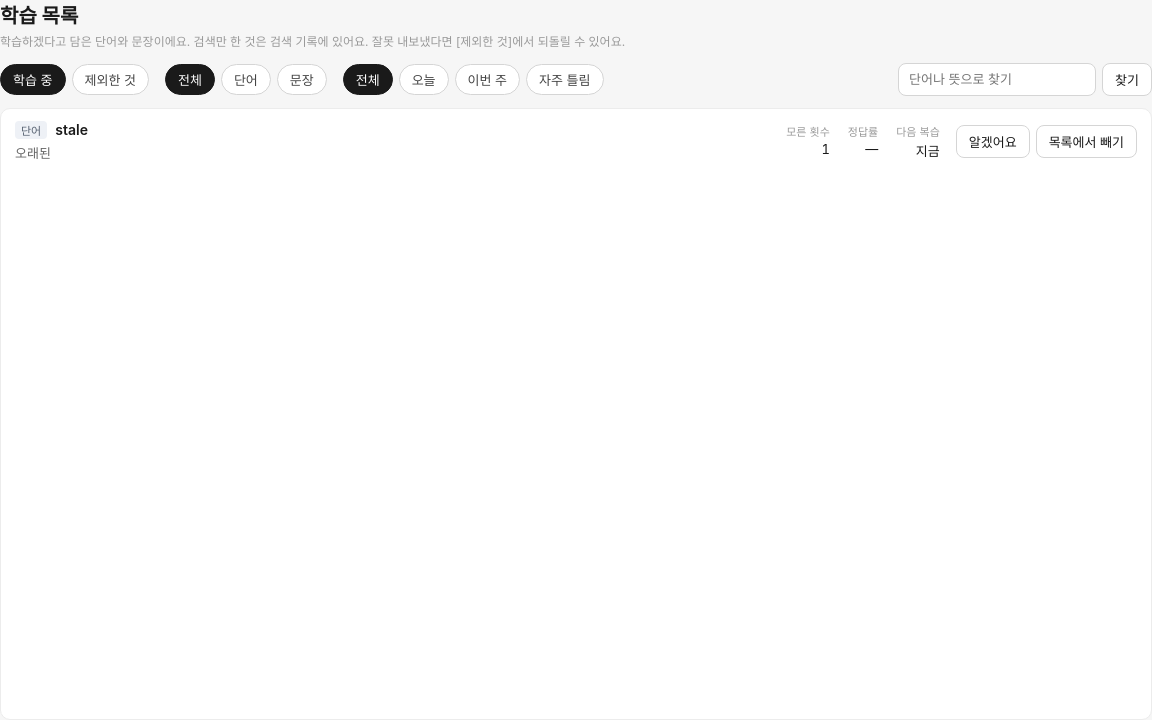
Learning › 제외한 것을 다시 학습으로 되돌린다
What coordinates should you click on to do the following:
click the button "제외한 것"
I would click on:
 (110, 80)
Its box is [72, 64, 149, 95].
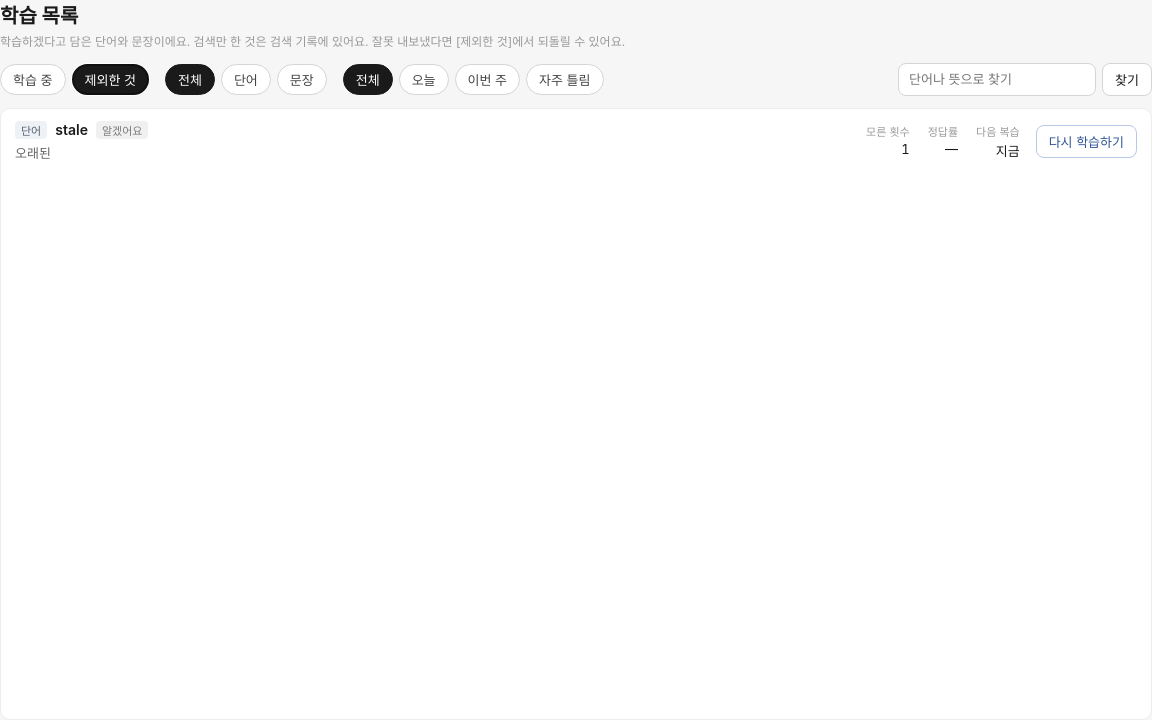
Check: the text "알겠어요" is shown, box [96, 121, 148, 139]
Check: the button "목록에서 빼기" is gone
What coordinates should you click on to do the following:
click the button "다시 학습하기"
I would click on:
 (1086, 142)
Its box is [1036, 125, 1137, 158].
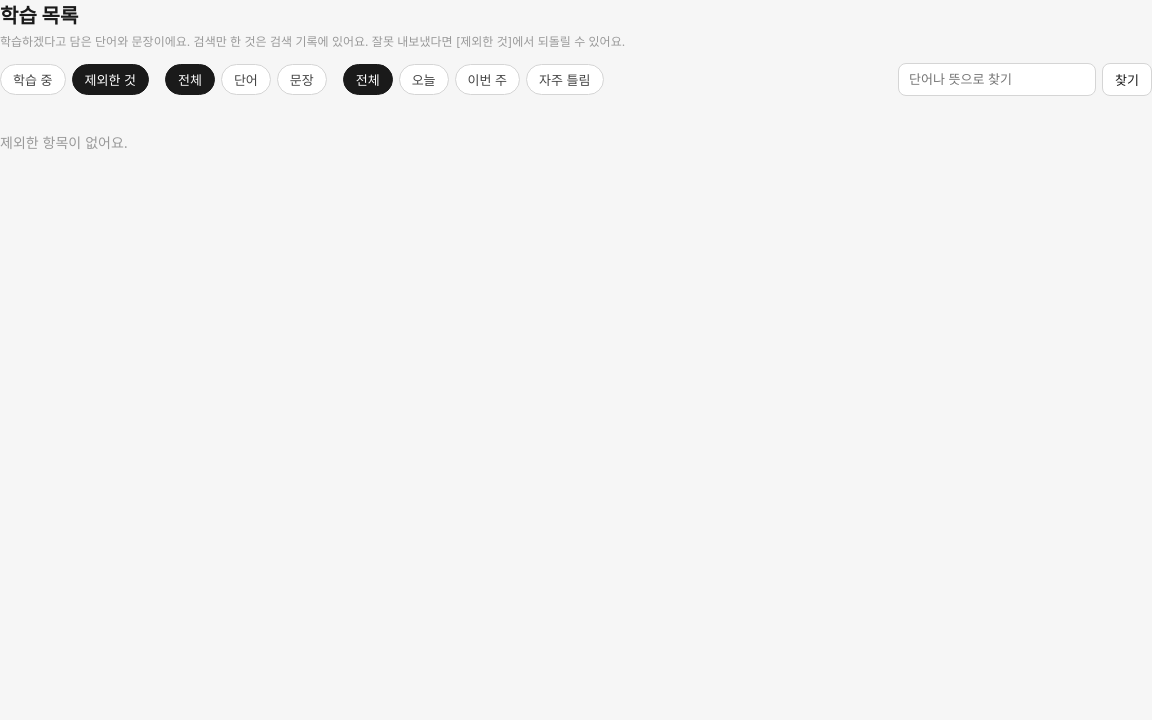
Check: the text "stale" is gone
